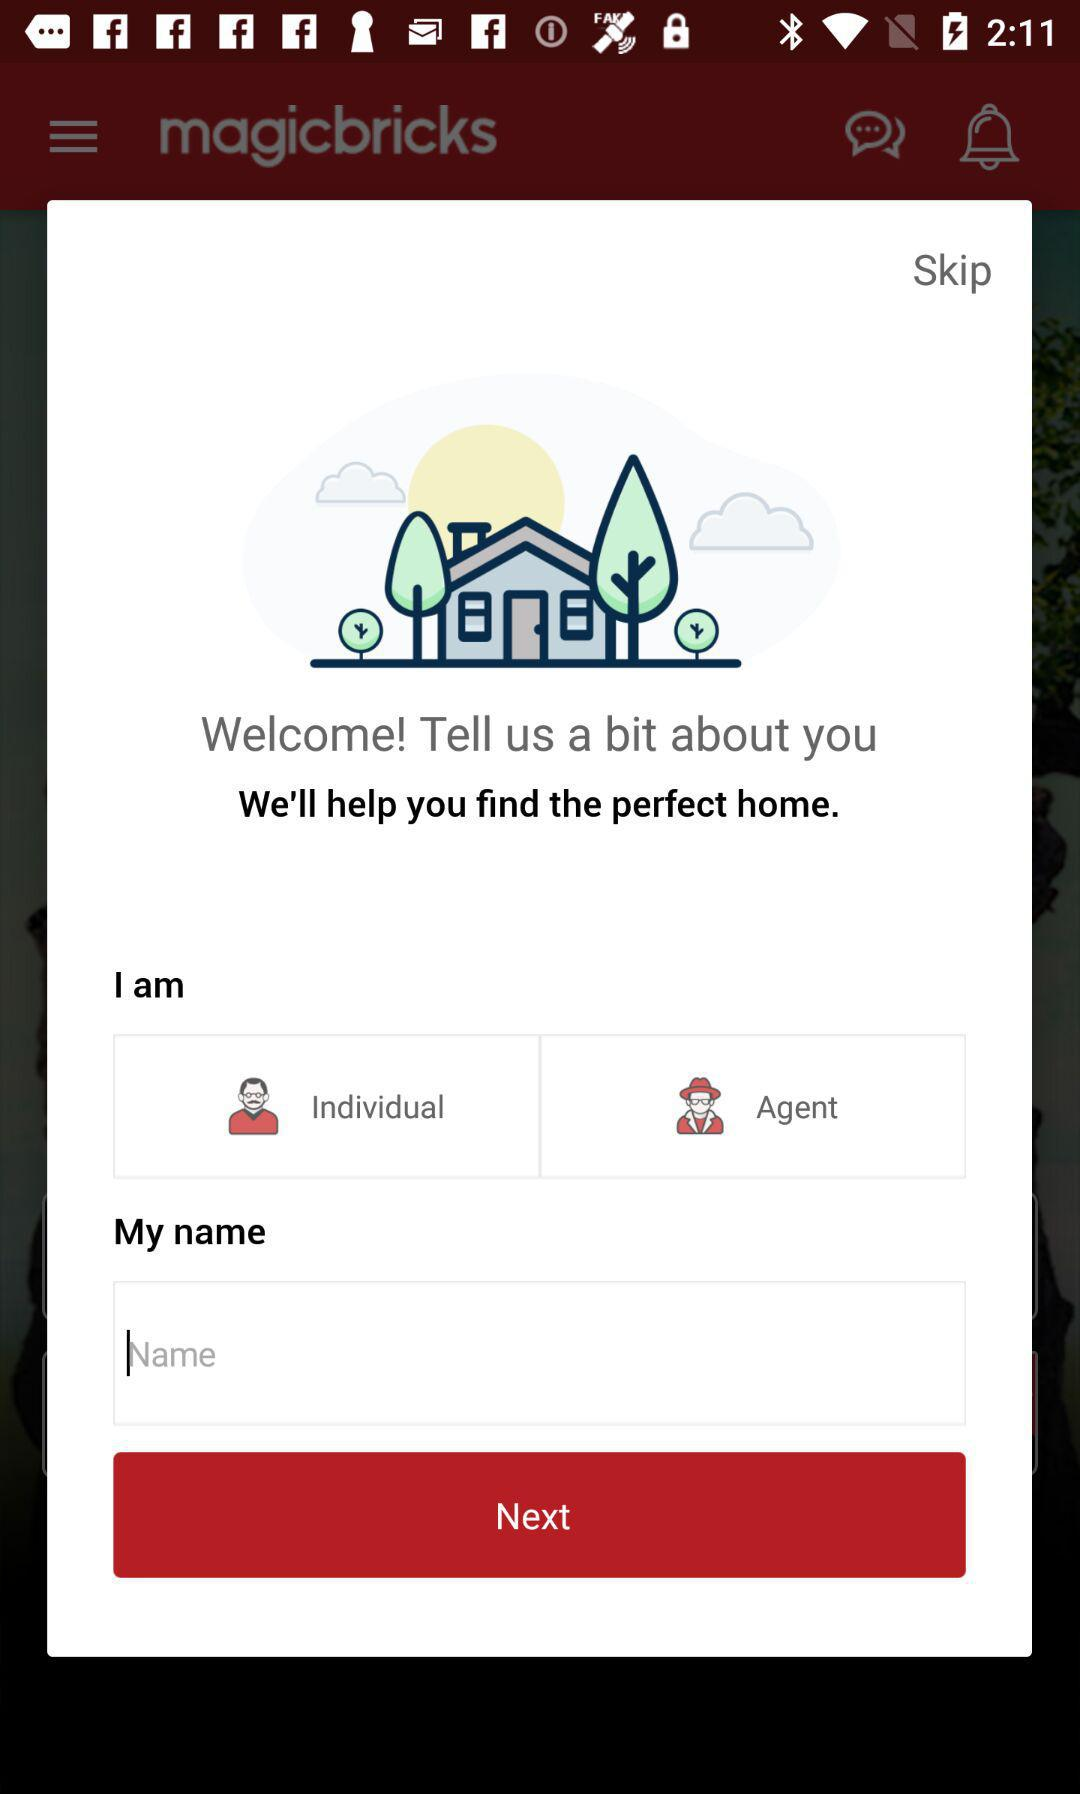EditText: (113, 1281, 967, 1428)
Icon: (957, 103, 1020, 172), (846, 111, 907, 163), (47, 120, 99, 155)
Image: (246, 373, 840, 669)
Modal: (47, 200, 1033, 1658)
Text: (202, 715, 876, 762), (240, 788, 840, 825), (159, 105, 496, 170), (115, 1219, 266, 1252), (913, 252, 992, 295), (129, 1342, 217, 1367), (117, 973, 184, 1000)
TextButton: (114, 1452, 967, 1577), (114, 1034, 542, 1181), (541, 1034, 967, 1181)
UpperTaskBar: (1, 1, 1080, 64)
